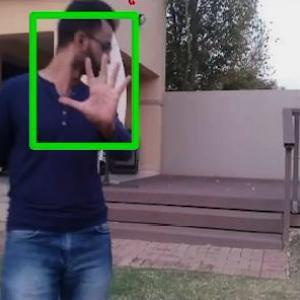follow_hand: (59, 49, 135, 130)
